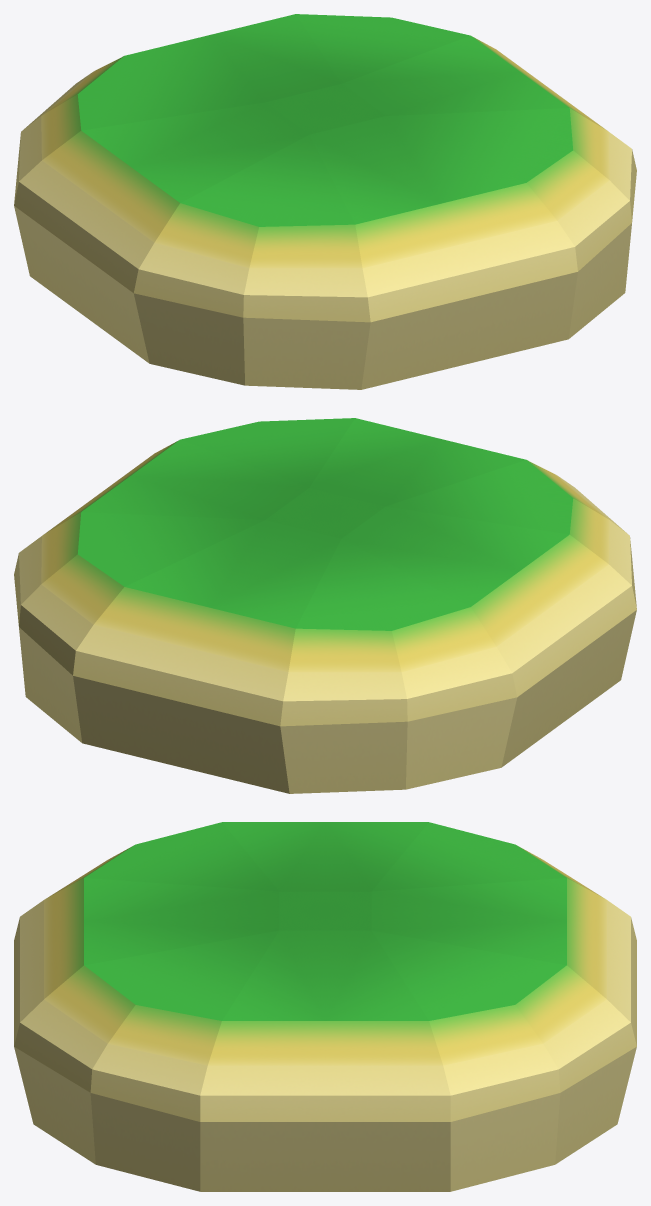
Rendered from Ilha.fbx.
3 renders of one model, top to bottom at view 1: azimuth 30°, elevation 25°; view 2: azimuth 150°, elevation 25°; view 3: azimuth 270°, elevation 25°, orthographic. The views are drawn at different scales.
Parts seen in each view (by area): view 1: ilha; view 2: ilha; view 3: ilha.
Boxes of the visible parts, left/top/right/bottom form: ilha: left=14, top=14, right=636, bottom=389; ilha: left=14, top=418, right=636, bottom=793; ilha: left=14, top=822, right=636, bottom=1191.
Size of the model in its own units: 659 by 200 by 675.
